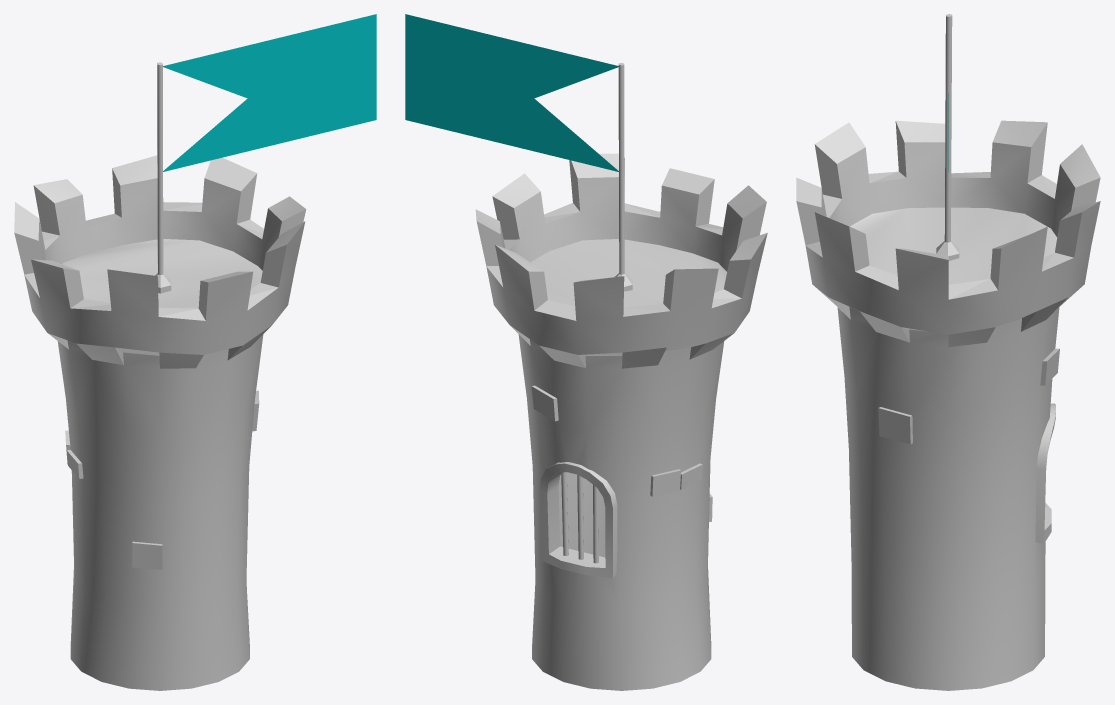
File: Castle.FBX
3 views of the same model, side by side, from view 1: azimuth 30°, elevation 25°; view 2: azimuth 150°, elevation 25°; view 3: azimuth 270°, elevation 25° (orthographic). The views are drawn at different scales.
Parts seen in each view (by area): view 1: Castle_Main, Castle_Flag, Castle_FlagPole, Castle_Protruding_Bricks; view 2: Castle_Main, Castle_Flag, Castle_Window, Castle_Protruding_Bricks, Castle_FlagPole; view 3: Castle_Main, Castle_FlagPole, Castle_Protruding_Bricks, Castle_Window.
Boxes of the visible parts, x1,y1,x2,y2 form: Castle_Main: (14,155,306,690); Castle_Flag: (163,14,376,171); Castle_FlagPole: (155,62,171,293); Castle_Protruding_Bricks: (65,390,259,569); Castle_Main: (475,153,767,690); Castle_Flag: (405,14,618,171); Castle_Window: (539,462,617,577); Castle_Protruding_Bricks: (531,385,712,521); Castle_FlagPole: (615,63,632,291); Castle_Main: (796,120,1100,690); Castle_FlagPole: (936,14,959,260); Castle_Protruding_Bricks: (878,348,1059,444); Castle_Window: (1035,403,1055,543).
Size of the model in its own units: 173 by 281 by 122.
